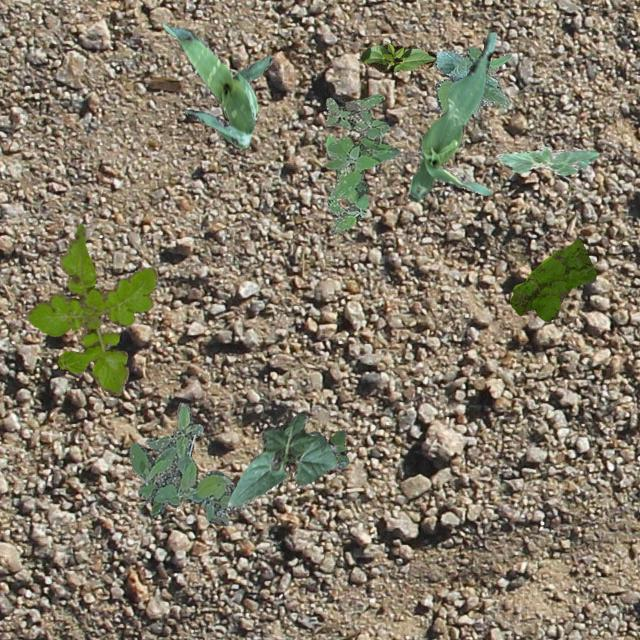crop: (406, 32, 496, 200), (162, 22, 272, 146), (226, 412, 336, 508), (434, 46, 511, 116), (496, 146, 598, 174), (356, 40, 434, 72)
weed: (24, 222, 158, 394), (128, 402, 244, 526), (322, 93, 398, 235), (508, 238, 594, 320), (306, 428, 348, 468), (324, 134, 348, 178)
